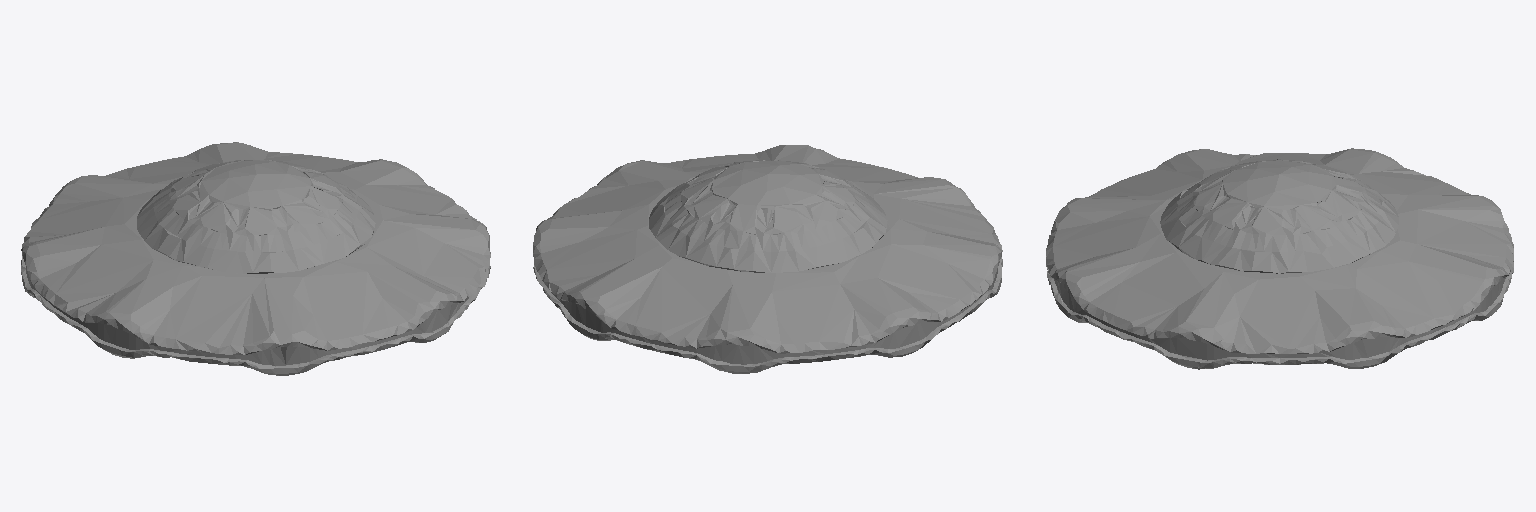
Rendered from frame_014.obj.
3 views of the same model, side by side, from view 1: azimuth 30°, elevation 25°; view 2: azimuth 150°, elevation 25°; view 3: azimuth 270°, elevation 25° (orthographic).
Visible parts, largest first — view 1: 13884_UFO_Saucer_v1_l2; view 2: 13884_UFO_Saucer_v1_l2; view 3: 13884_UFO_Saucer_v1_l2.
Part boxes in pixels (left/top/right/bottom): 13884_UFO_Saucer_v1_l2: left=21, top=142, right=490, bottom=375; 13884_UFO_Saucer_v1_l2: left=533, top=145, right=1002, bottom=373; 13884_UFO_Saucer_v1_l2: left=1046, top=148, right=1513, bottom=369.
Size of the model in its own units: 12.69 by 4.88 by 12.7.